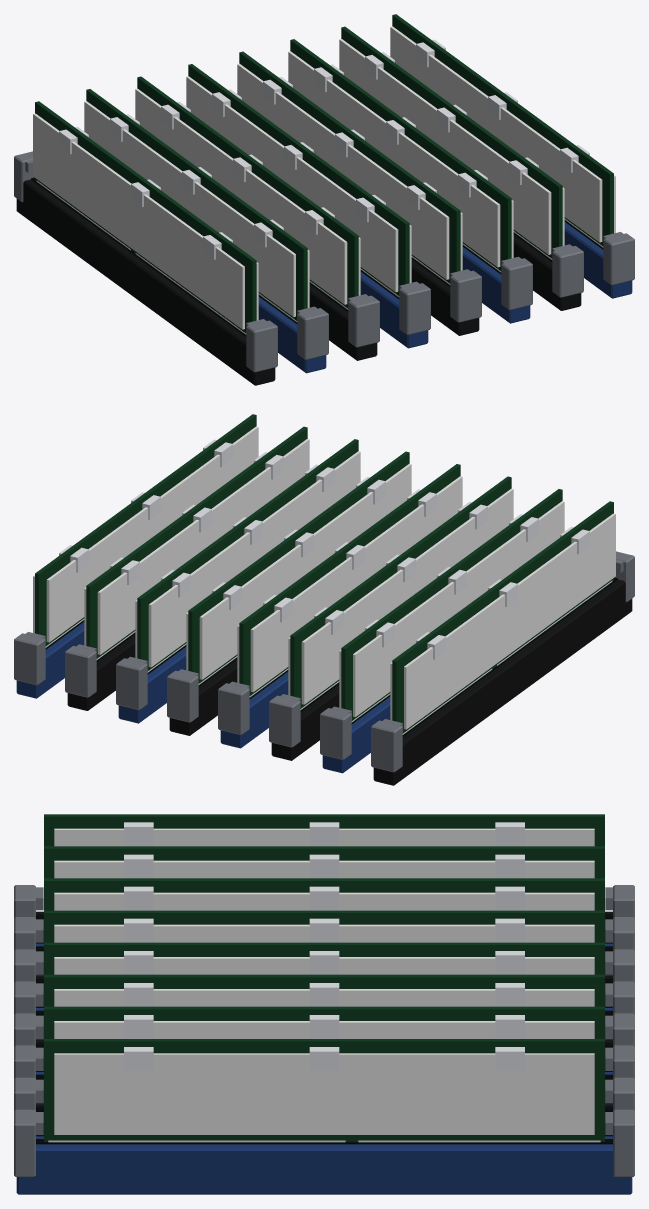
Rendered from hwm_ram_ddr5_64gb.glb.
3 renders of one model, top to bottom at view 1: azimuth 30°, elevation 25°; view 2: azimuth 150°, elevation 25°; view 3: azimuth 270°, elevation 25°, orthographic. The views are drawn at different scales.
Parts seen in each view (by area): view 1: Slots, Stick_0, Stick_6, Stick_2, Stick_7, Stick_3, Stick_4, Stick_5, Stick_1, Latch_5_1, Latch_0_1, Latch_1_1 (+6 smaller); view 2: Slots, Stick_0, Stick_6, Stick_2, Stick_7, Stick_3, Stick_4, Stick_5, Stick_1, Latch_5_0, Latch_0_0, Latch_1_0 (+6 smaller); view 3: Stick_7, Slots, Stick_0, Stick_1, Stick_2, Stick_3, Stick_4, Stick_5, Stick_6, Latch_7_0, Latch_7_1, Latch_1_0 (+13 smaller).
Boxes of the visible parts, x1=… form: Slots: x1=16, y1=177, x2=632, y2=385; Stick_0: x1=33, y1=101, x2=258, y2=334; Stick_6: x1=339, y1=26, x2=564, y2=259; Stick_2: x1=135, y1=76, x2=360, y2=309; Stick_7: x1=390, y1=14, x2=615, y2=247; Stick_3: x1=186, y1=64, x2=411, y2=297; Stick_4: x1=237, y1=51, x2=462, y2=284; Stick_5: x1=288, y1=39, x2=513, y2=272; Stick_1: x1=84, y1=89, x2=309, y2=322; Latch_5_1: x1=501, y1=256, x2=532, y2=310; Latch_0_1: x1=246, y1=319, x2=277, y2=372; Latch_1_1: x1=297, y1=306, x2=328, y2=359; Slots: x1=16, y1=577, x2=632, y2=785; Stick_0: x1=390, y1=501, x2=615, y2=734; Stick_6: x1=84, y1=426, x2=309, y2=659; Stick_2: x1=288, y1=476, x2=513, y2=709; Stick_7: x1=33, y1=414, x2=258, y2=647; Stick_3: x1=237, y1=464, x2=462, y2=697; Stick_4: x1=186, y1=451, x2=411, y2=684; Stick_5: x1=135, y1=439, x2=360, y2=672; Stick_1: x1=339, y1=489, x2=564, y2=722; Latch_5_0: x1=116, y1=656, x2=147, y2=710; Latch_0_0: x1=371, y1=719, x2=402, y2=772; Latch_1_0: x1=320, y1=706, x2=351, y2=759; Stick_7: x1=44, y1=1039, x2=604, y2=1142; Slots: x1=16, y1=911, x2=632, y2=1194; Stick_0: x1=44, y1=814, x2=604, y2=846; Stick_1: x1=44, y1=846, x2=604, y2=878; Stick_2: x1=44, y1=878, x2=604, y2=910; Stick_3: x1=44, y1=910, x2=604, y2=942; Stick_4: x1=44, y1=942, x2=604, y2=974; Stick_5: x1=44, y1=974, x2=604, y2=1006; Stick_6: x1=44, y1=1006, x2=604, y2=1038; Latch_7_0: x1=605, y1=1109, x2=634, y2=1176; Latch_7_1: x1=14, y1=1109, x2=43, y2=1176; Latch_1_0: x1=605, y1=917, x2=634, y2=950.
Bounding box in the file's own units: 0.1346 × 0.0389 × 0.1472.
